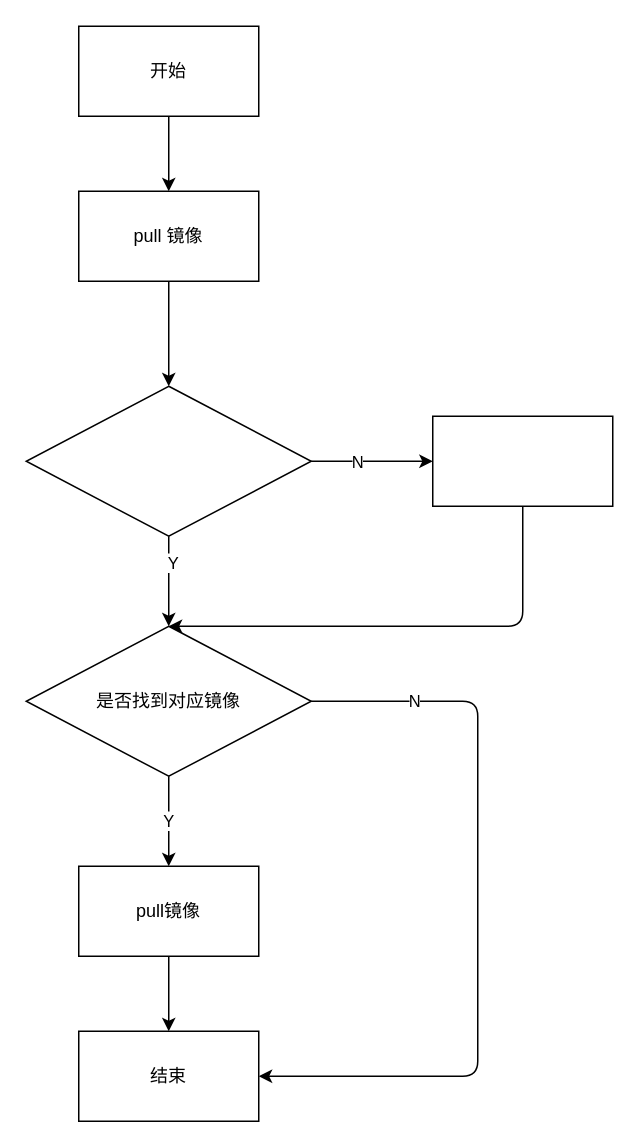
The diagram is 639 pixels wide and 1148 high, and some of its shapes have lost their labels. Here are the shapes that lost their labels. From the top down, the centre of each, then its label:
At [168,460]: "Docker registry是否返回 支持multi arch的 manifest lists对象".
At [522,460]: "old case".
